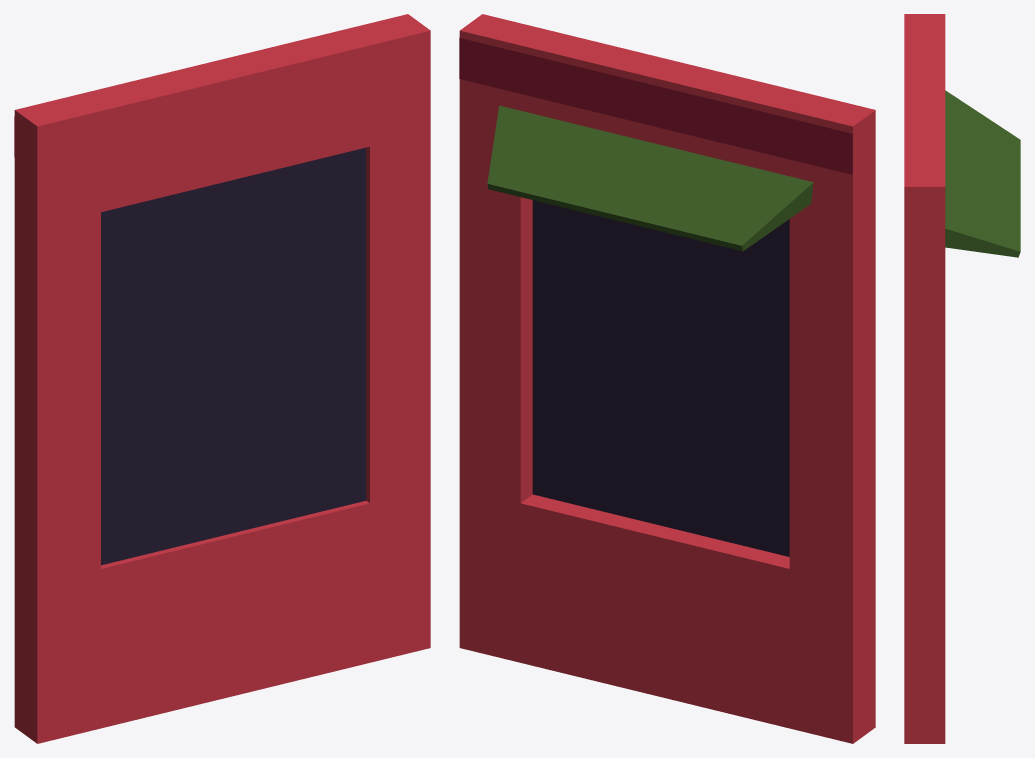
Rendered from fasade-window.fbx.
3 views of the same model, side by side, from view 1: azimuth 30°, elevation 25°; view 2: azimuth 150°, elevation 25°; view 3: azimuth 270°, elevation 25° (orthographic). The views are drawn at different scales.
Parts seen in each view (by area): view 1: fasade window, window; view 2: fasade window, window, window top; view 3: fasade window, window top.
Part boxes in pixels (box(x1,y1,x2,y2)): fasade window: box(14, 14, 430, 743); window: box(101, 147, 366, 565); fasade window: box(459, 14, 875, 743); window: box(532, 200, 789, 556); window top: box(487, 105, 813, 251); fasade window: box(904, 14, 945, 743); window top: box(945, 90, 1020, 257).
Size of the model in its own units: 2 by 3 by 0.5678.
